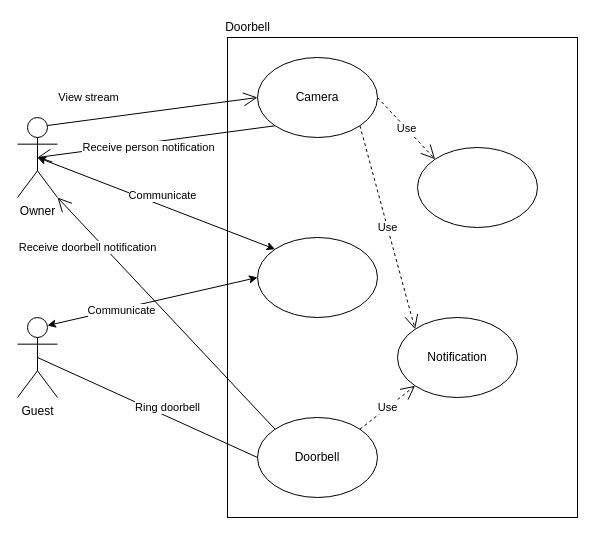
This 595x535 diagram has some shape labels left out. The shapes that lost their labels are listed below. From the top down, each one's centre as x and y in pixels, then its label:
At point 477,187: "Person Recognition".
At point 317,277: "Audio".
